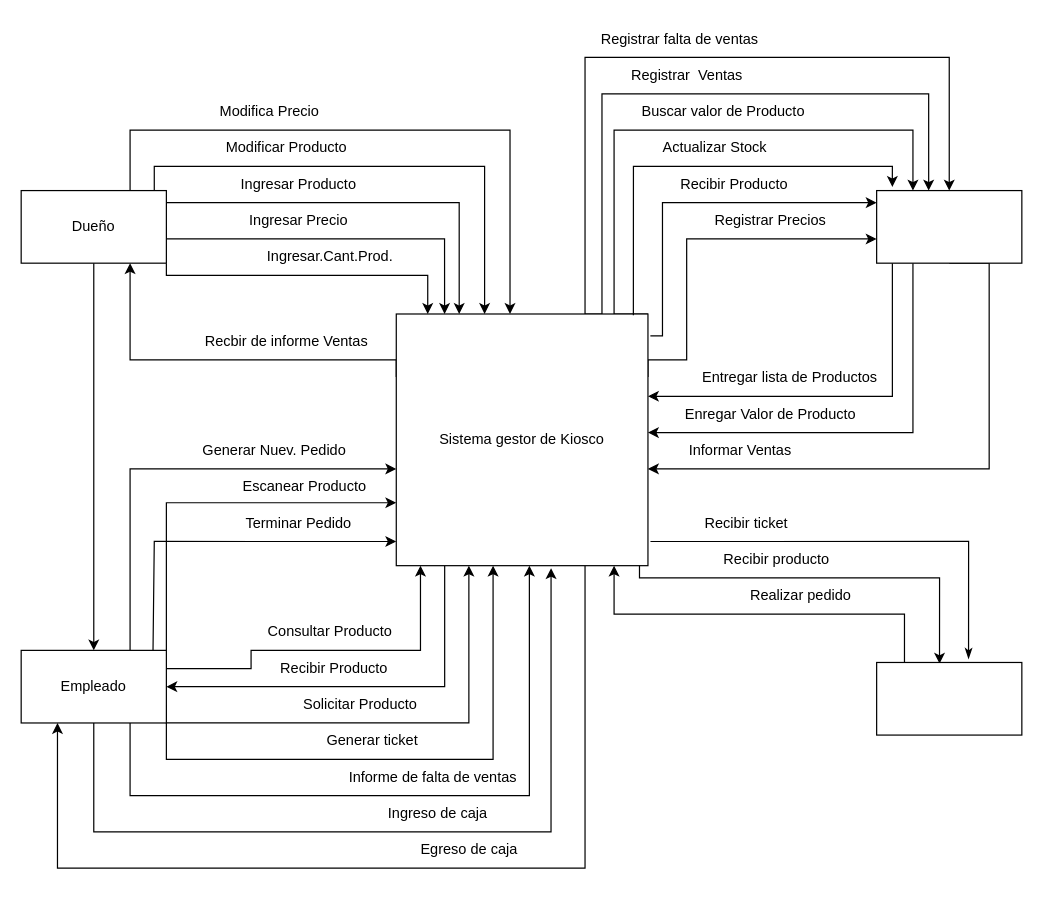
This 1043x899 diagram has some shape labels left out. The shapes that lost their labels are listed below. From the top down, each one's centre as x and y in pixels, then its label:
At (x=948, y=226): "Base de datos".
At (x=948, y=698): "Cliente".
